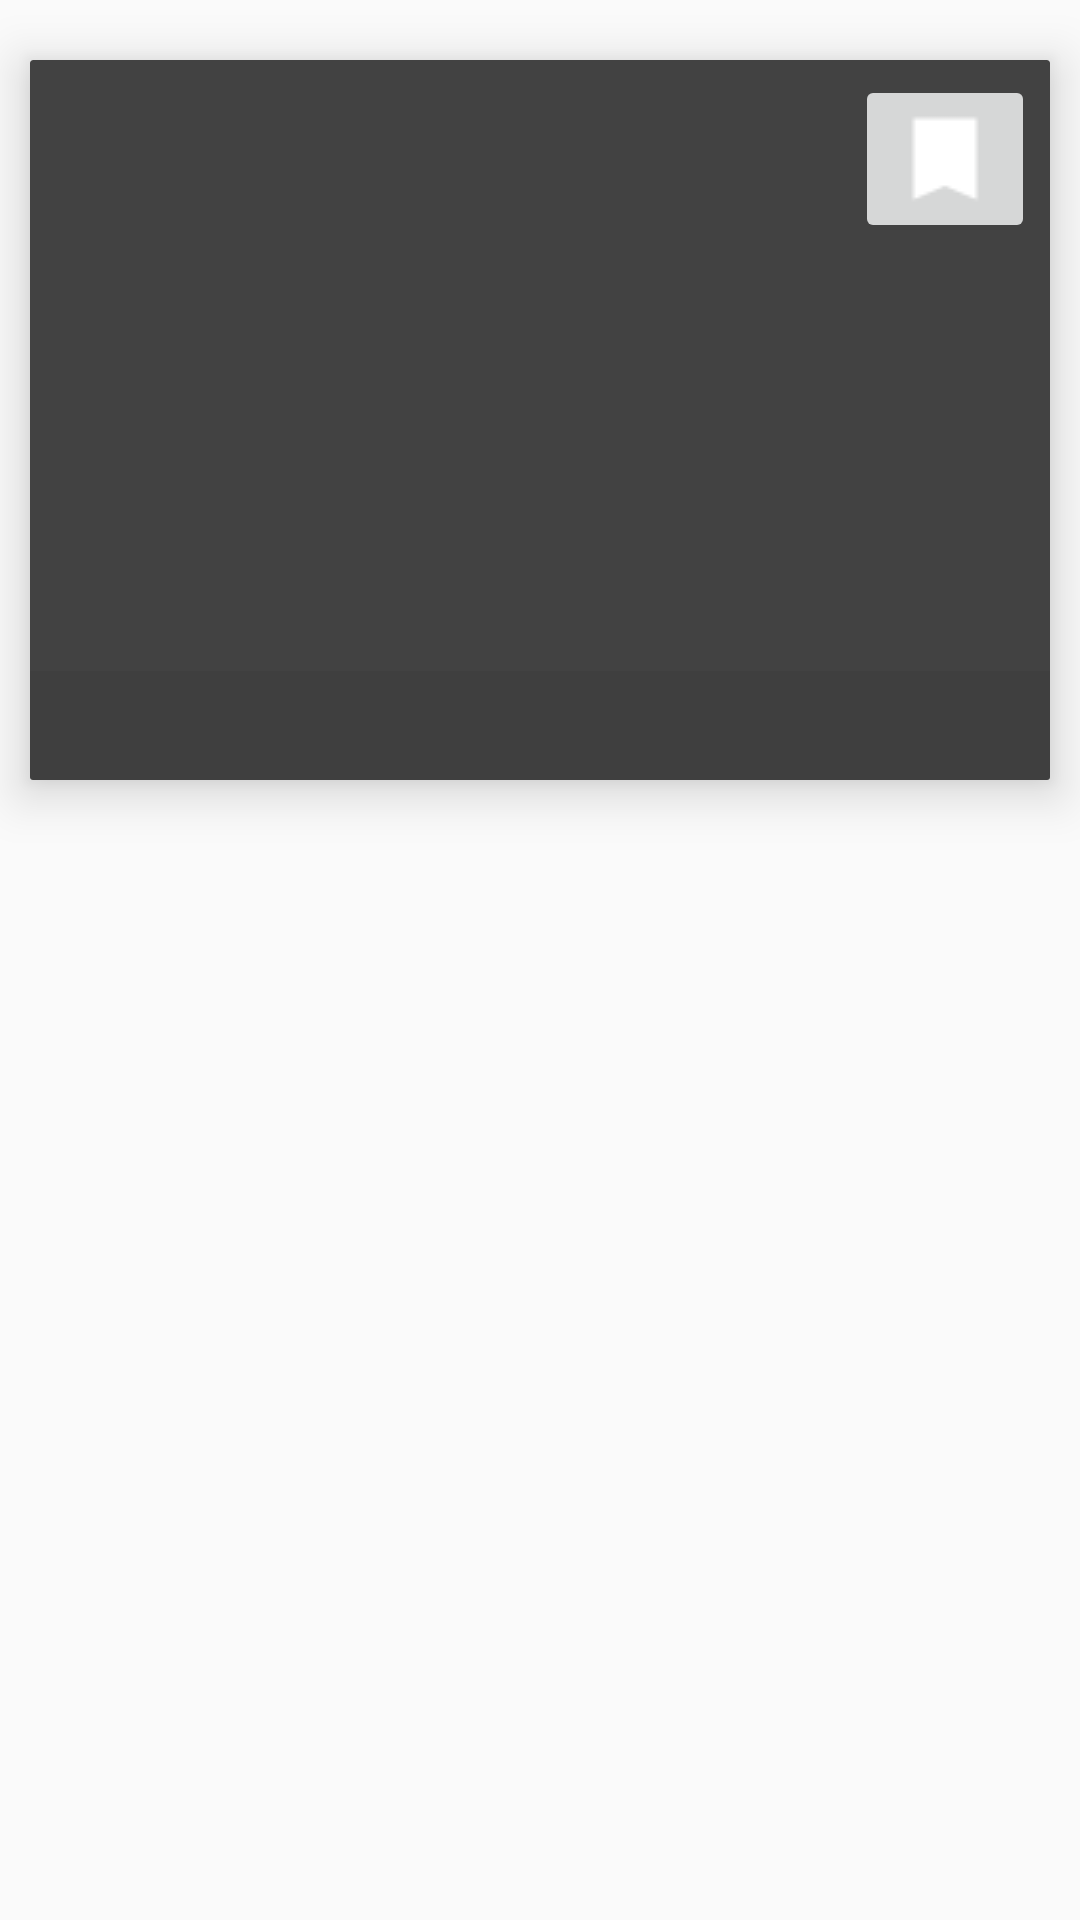

Point at icon controls on the screen. Image size 1080px×1920px, points as point (x, y).
bookmark: point (945, 159)
